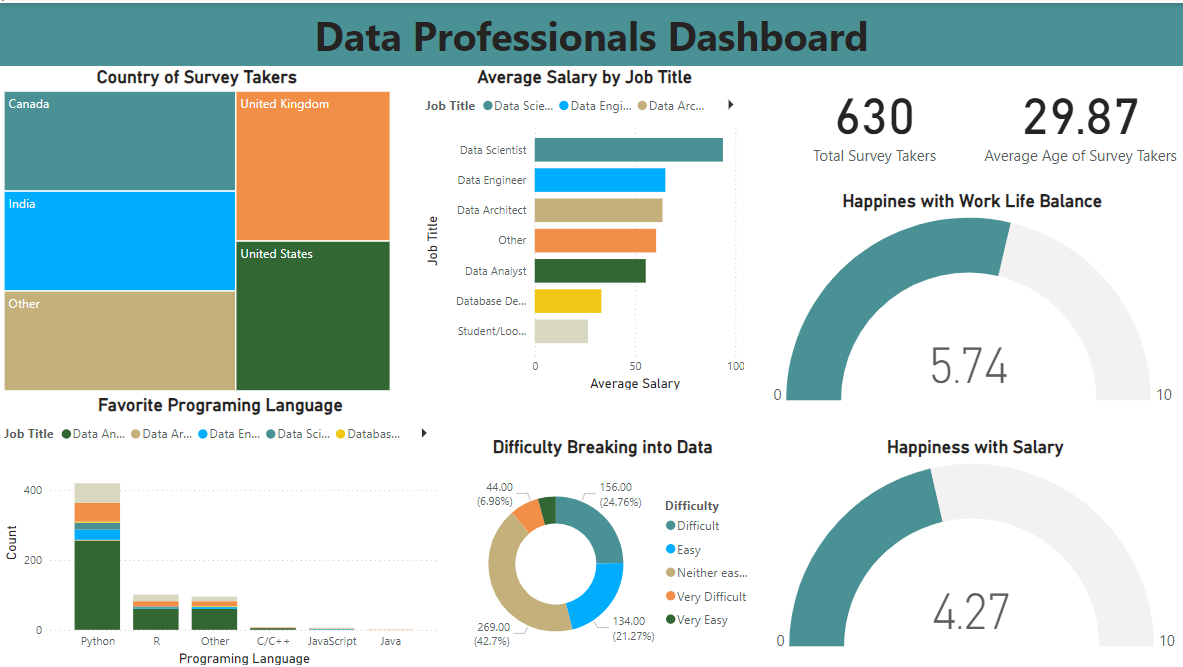

Layout of this report page (visuals, bound fields, positions):
{"tool":"powerbi","page":{"name":"Page 1","canvas":[1280,720],"ordinal":0},"visuals":[{"type":"card","fields":{"Values":["CountNonNull(Data Professional Survey.Unique ID)"]},"box":[831.5,68,224.9,115.3],"z":0},{"type":"card","fields":{"Values":["Avg(Data Professional Survey.Q10 - Current Age)"]},"box":[1056.4,68,223,115.3],"z":1000},{"type":"barChart","title":"Average Salary by Job Title","fields":{"Category":["Data Professional Survey.Q1 - Which Title Best Fits your Current Role?"],"Y":["Avg(Data Professional Survey.Average Salary)"],"Series":["Data Professional Survey.Q1 - Which Title Best Fits your Current Role?"]},"box":[455,68,354.6,354.6],"z":2000},{"type":"columnChart","title":"Favorite Programing Language","fields":{"Category":["Data Professional Survey.Q5 - Favorite Programming Language"],"Y":["CountNonNull(Data Professional Survey.Unique ID)"],"Series":["Data Professional Survey.Q1 - Which Title Best Fits your Current Role?"]},"box":[0,423.3,478.1,296.7],"z":3000},{"type":"treemap","title":"Country of Survey Takers","fields":{"Group":["Data Professional Survey.Q11 - Which Country do you live in?"],"Values":["Count(Data Professional Survey.Q11 - Which Country do you live in?)"]},"box":[0,68,427.1,355.3],"z":4000},{"type":"gauge","title":"Happines with Work Life Balance","fields":{"Y":["Avg(Data Professional Survey.Q6 - How Happy are you in your Current Position with the following? (Work/Life Balance))"],"MinValue":["Min(Data Professional Survey.Q6 - How Happy are you in your Current Position with the following? (Work/Life Balance))"],"MaxValue":["Max(Data Professional Survey.Q6 - How Happy are you in your Current Position with the following? (Work/Life Balance))"]},"box":[825.8,202.2,449.8,238.1],"z":5000},{"type":"gauge","title":"Happiness with Salary","fields":{"Y":["Avg(Data Professional Survey.Q6 - How Happy are you in your Current Position with the following? (Salary))"],"MinValue":["Min(Data Professional Survey.Q6 - How Happy are you in your Current Position with the following? (Salary))"],"MaxValue":["Max(Data Professional Survey.Q6 - How Happy are you in your Current Position with the following? (Salary))"]},"box":[829.6,468.7,449.8,238.1],"z":6000},{"type":"donutChart","title":"Difficulty Breaking into Data","fields":{"Series":["Data Professional Survey.Q7 - How difficult was it for you to break into Data?"],"Y":["CountNonNull(Data Professional Survey.Unique ID)"]},"box":[477.7,468,348.1,252.6],"z":7000},{"type":"textbox","box":[0,0,1279.4,68],"z":8000}]}

Visuals, with their boxes in screenshot pixels (x1, y1, x2, y2), scaled from the page's 1280x720 canvas onto the 1183x667 screenshot:
card - CountNonNull(Data Professional Survey.Unique ID): l=768, t=63, r=976, b=170
card - Avg(Data Professional Survey.Q10 - Current Age): l=976, t=63, r=1182, b=170
"Average Salary by Job Title" barChart: l=421, t=63, r=748, b=391
"Favorite Programing Language" columnChart: l=0, t=392, r=442, b=666
"Country of Survey Takers" treemap: l=0, t=63, r=395, b=392
"Happines with Work Life Balance" gauge: l=763, t=187, r=1179, b=408
"Happiness with Salary" gauge: l=767, t=434, r=1182, b=655
"Difficulty Breaking into Data" donutChart: l=441, t=434, r=763, b=666
textbox: l=0, t=0, r=1182, b=63
